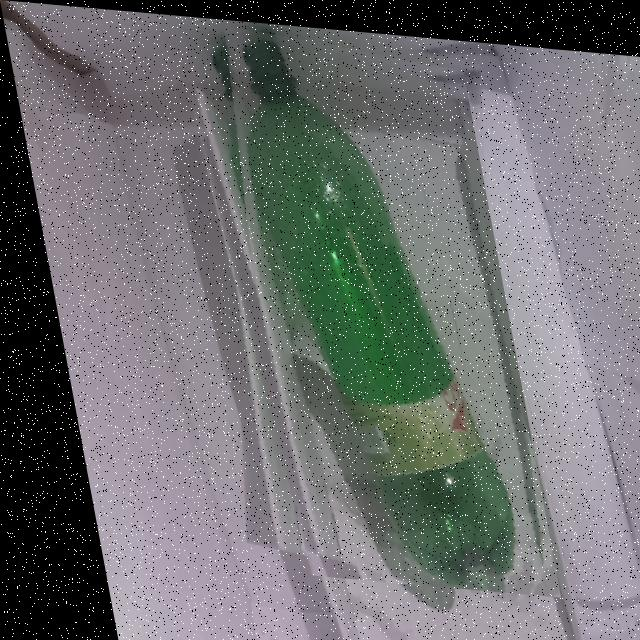plasticbottle: (168, 12, 540, 589)
